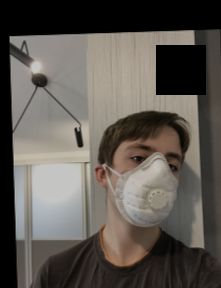with_mask: (111, 139, 183, 227)
